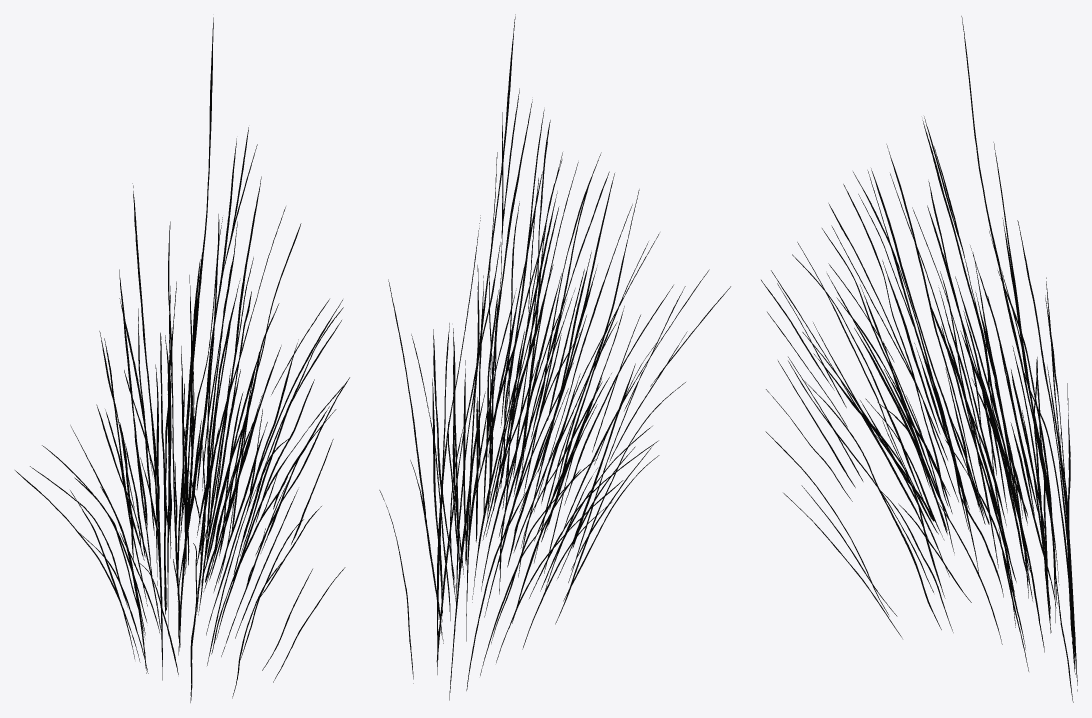
File: newgrass.fbx
3 renders of one model, left to right at view 1: azimuth 30°, elevation 25°; view 2: azimuth 150°, elevation 25°; view 3: azimuth 270°, elevation 25°, orthographic. The views are drawn at different scales.
Visible parts, largest first — view 1: node_0; view 2: node_0; view 3: node_0.
Part boxes in pixels (box(x1,y1,x2,y2)): node_0: box(15, 17, 349, 702); node_0: box(379, 14, 730, 700); node_0: box(761, 16, 1077, 702).
Size of the model in its own units: 46.89 by 105 by 44.75.
Materials: 1 (1 with a texture image).
